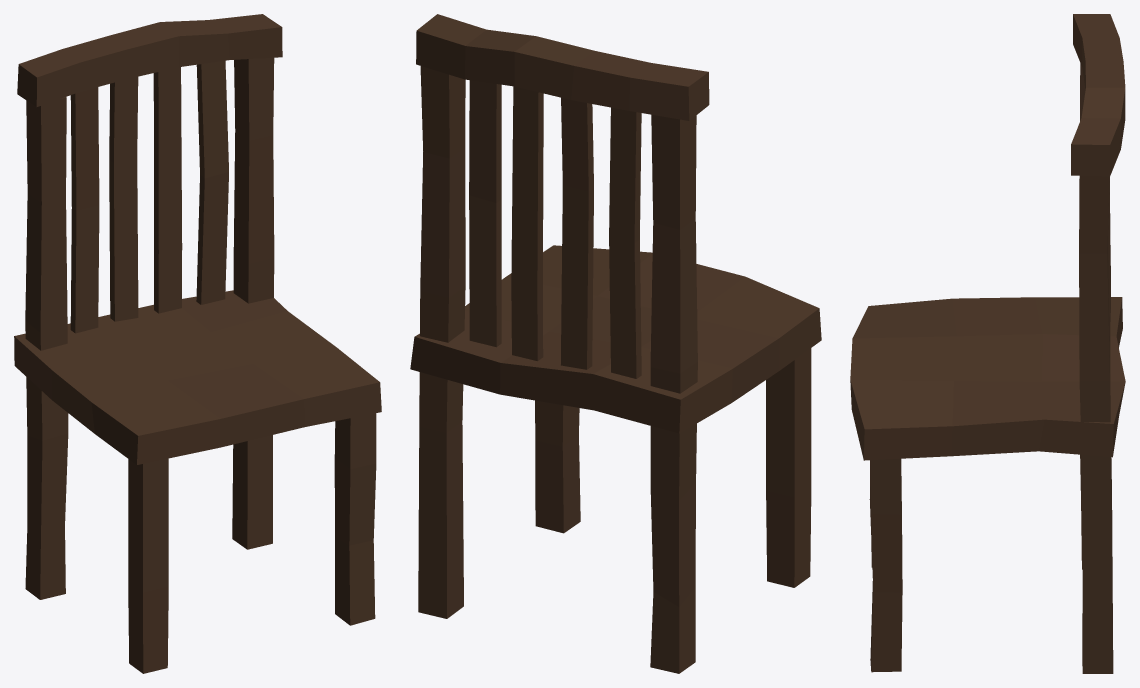
The model's file is chair.fbx.
The picture shows the model from 3 angles, left to right: view 1: azimuth 30°, elevation 25°; view 2: azimuth 150°, elevation 25°; view 3: azimuth 270°, elevation 25°; orthographic projection. The views are drawn at different scales.
Visible parts, largest first — view 1: Cube.003; view 2: Cube.003; view 3: Cube.003.
Part boxes in pixels (left/top/right/bottom): Cube.003: left=14, top=14, right=381, bottom=673; Cube.003: left=410, top=14, right=821, bottom=673; Cube.003: left=850, top=14, right=1125, bottom=673.
Size of the model in its own units: 45.51 by 91.14 by 42.09.
